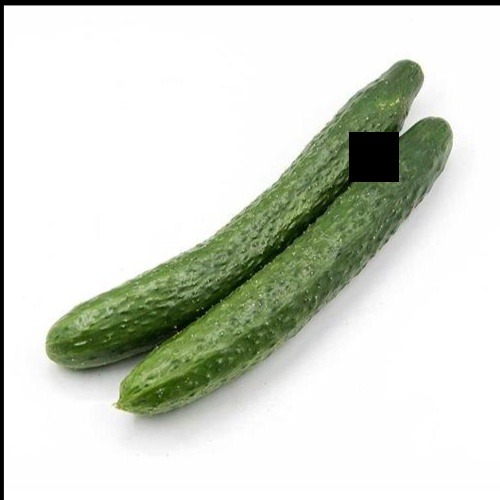cucumber: (51, 67, 425, 370), (121, 111, 447, 416)
